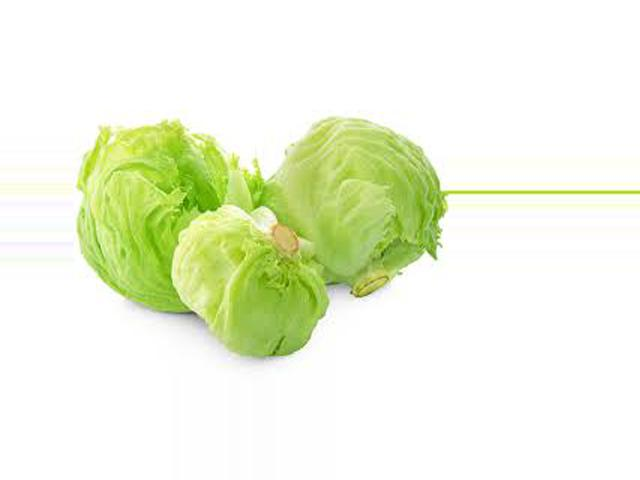lettuce: (84, 130, 240, 300)
